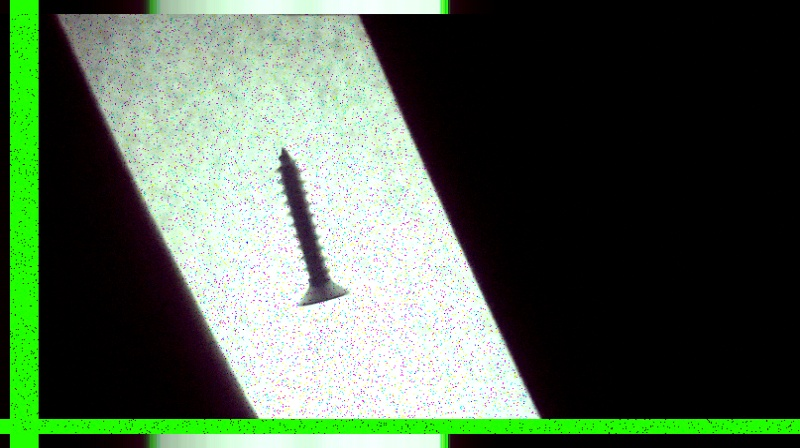S001: (269, 141, 354, 310)
